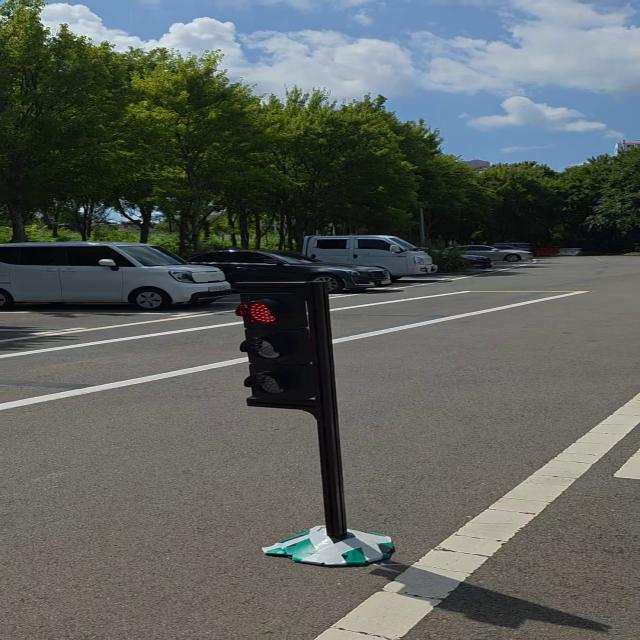red: (231, 288, 330, 410)
